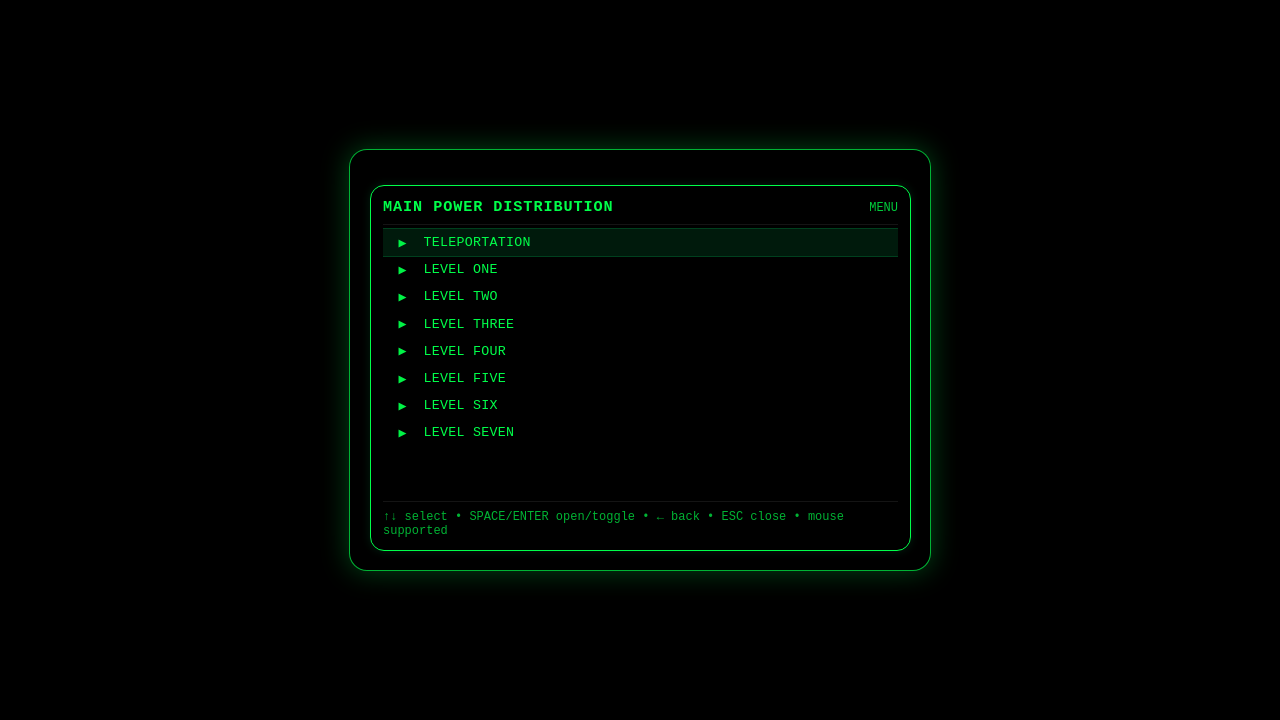
Test case: restaurant freezer power › displays the Level Three control ON and updates its status and world through the browser
Click the option "▶ LEVEL THREE" at (469, 324), box [383,311,898,338]
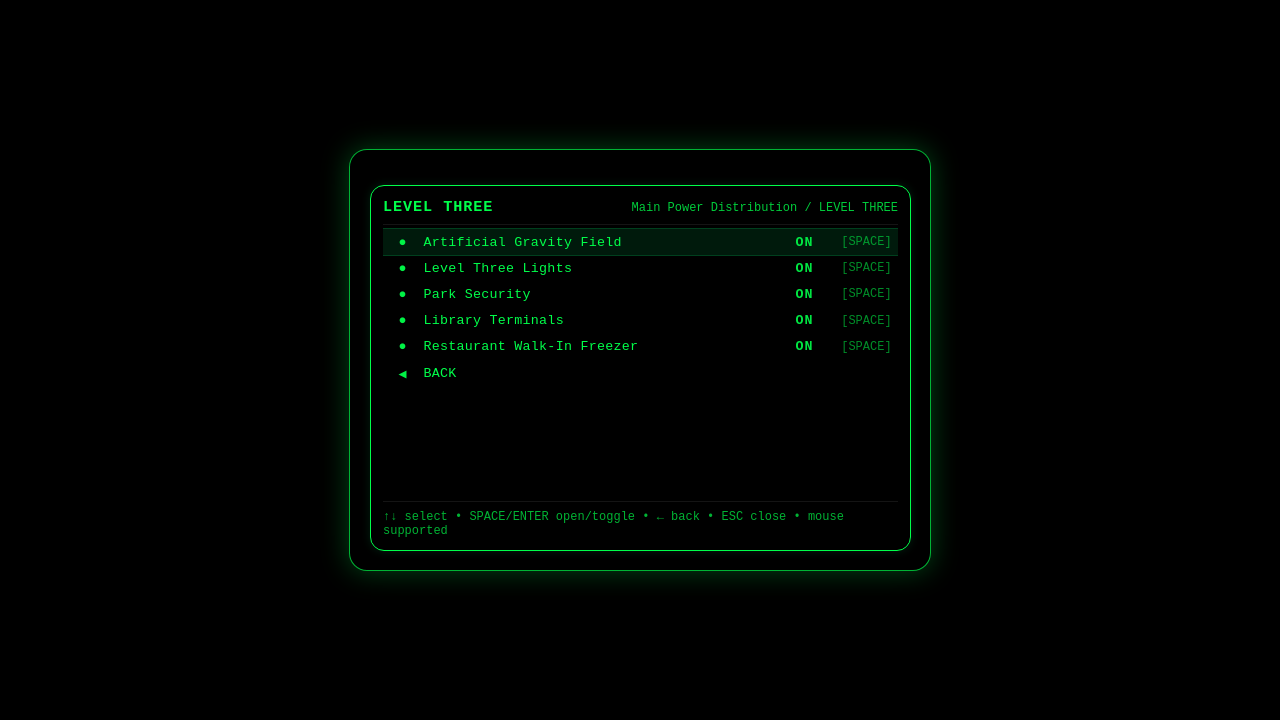
Expected: the 5th text "ON" is shown, [796,339,814,354]
Click the option "● Restaurant Walk-In Freezer ON [SPACE]" at (640, 347), box [383,334,898,360]
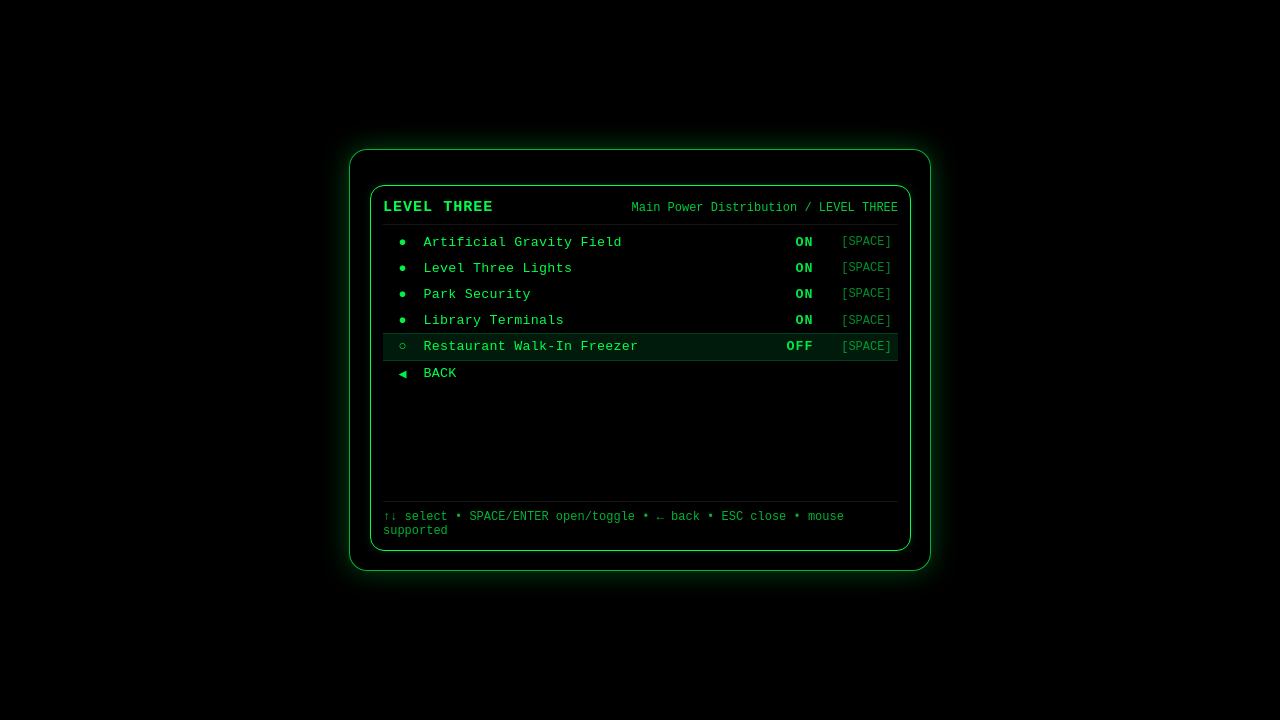
Expected: the text "OFF" is shown, [786,339,814,354]
Click the option "○ Restaurant Walk-In Freezer OFF [SPACE]" at (640, 347), box [383,334,898,360]
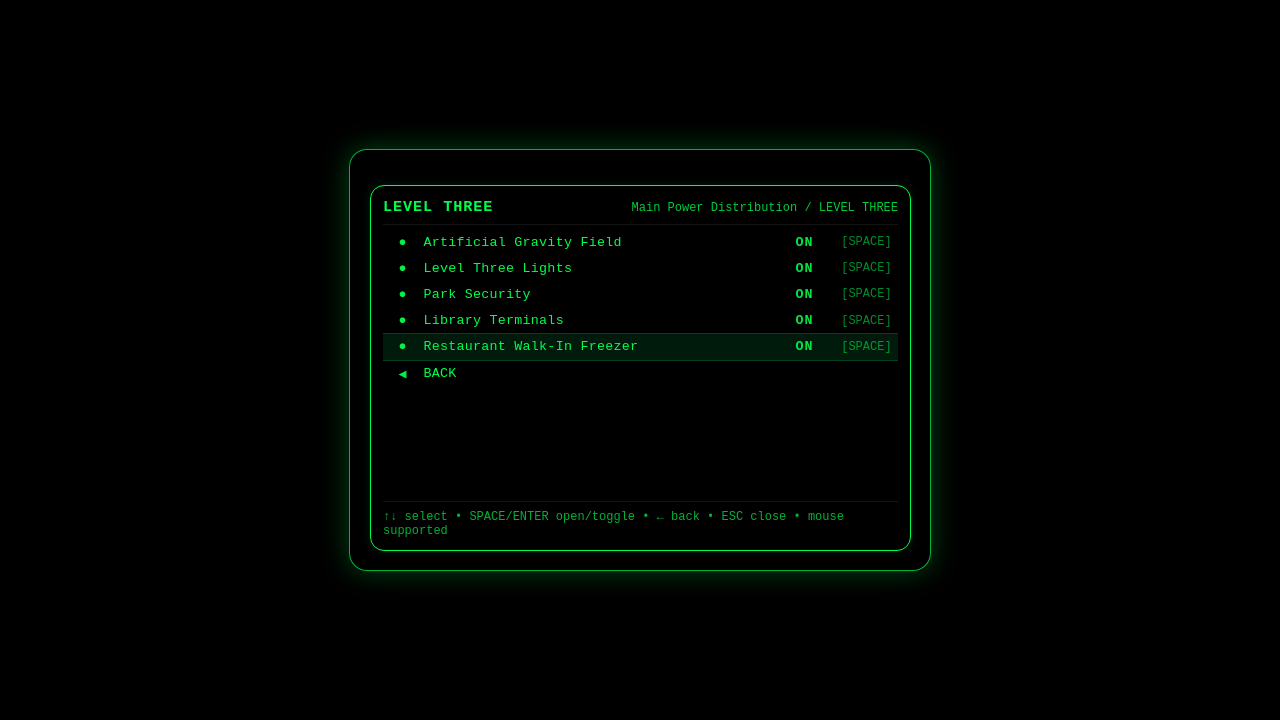
Expected: the 5th text "ON" is shown, [796,339,814,354]
